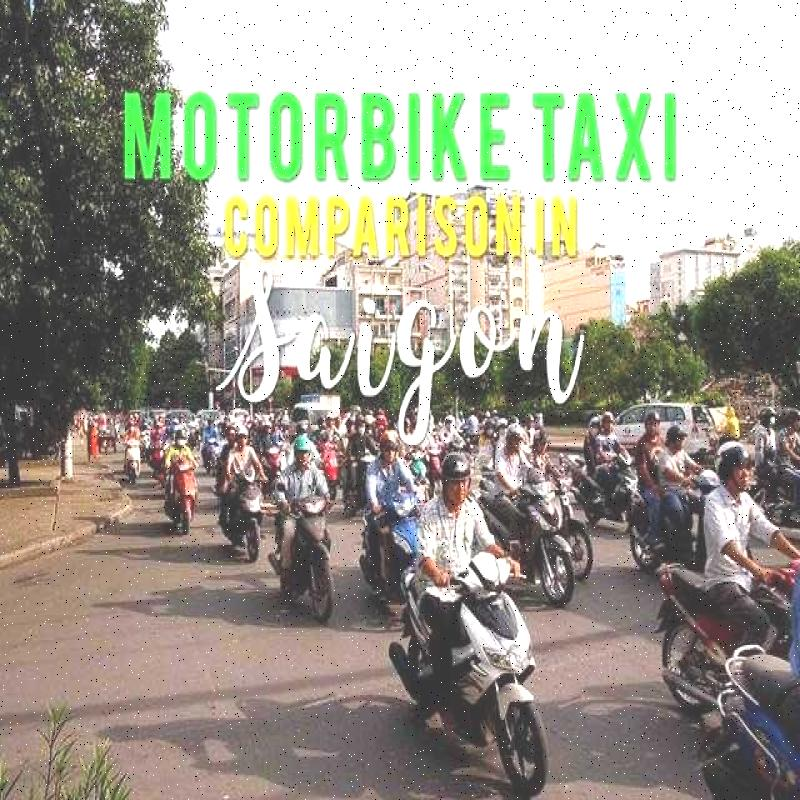bike: (389, 528, 564, 775), (703, 611, 800, 800), (496, 449, 597, 600), (661, 542, 732, 707), (297, 469, 353, 627), (208, 451, 275, 560)
